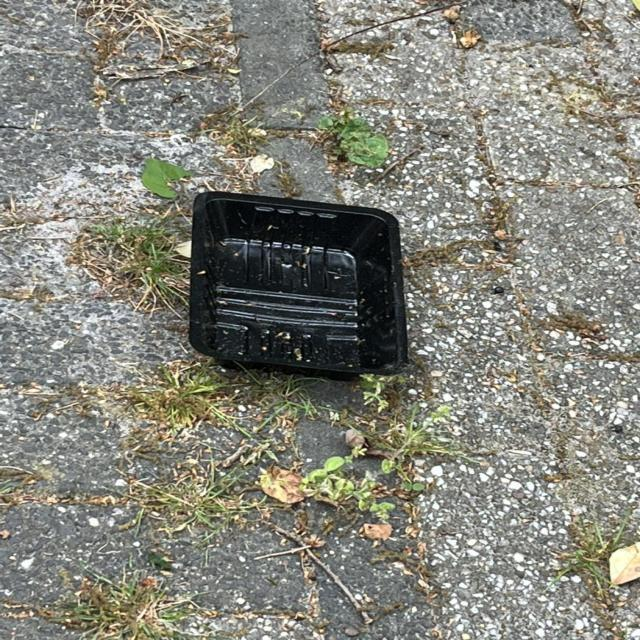Plastic: (187, 190, 411, 383)
